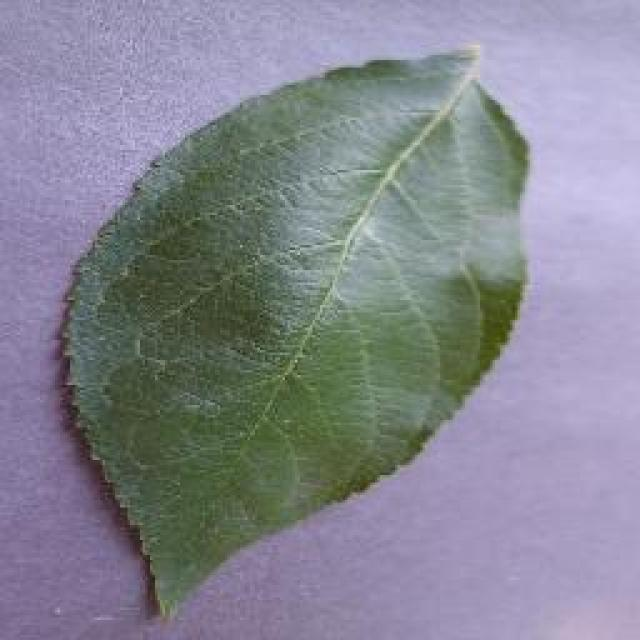apple healthy: (55, 40, 533, 620)
